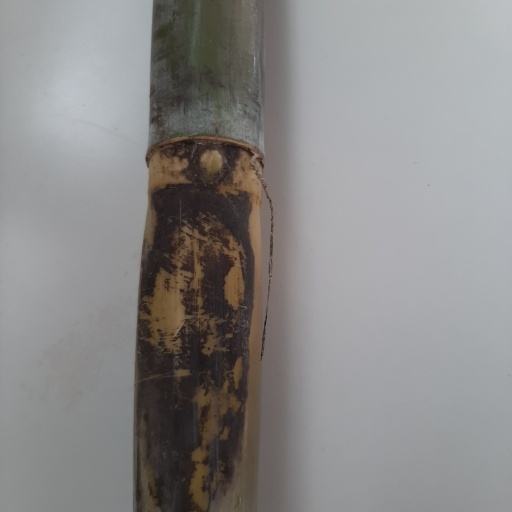Bud: (198, 148, 225, 183)
